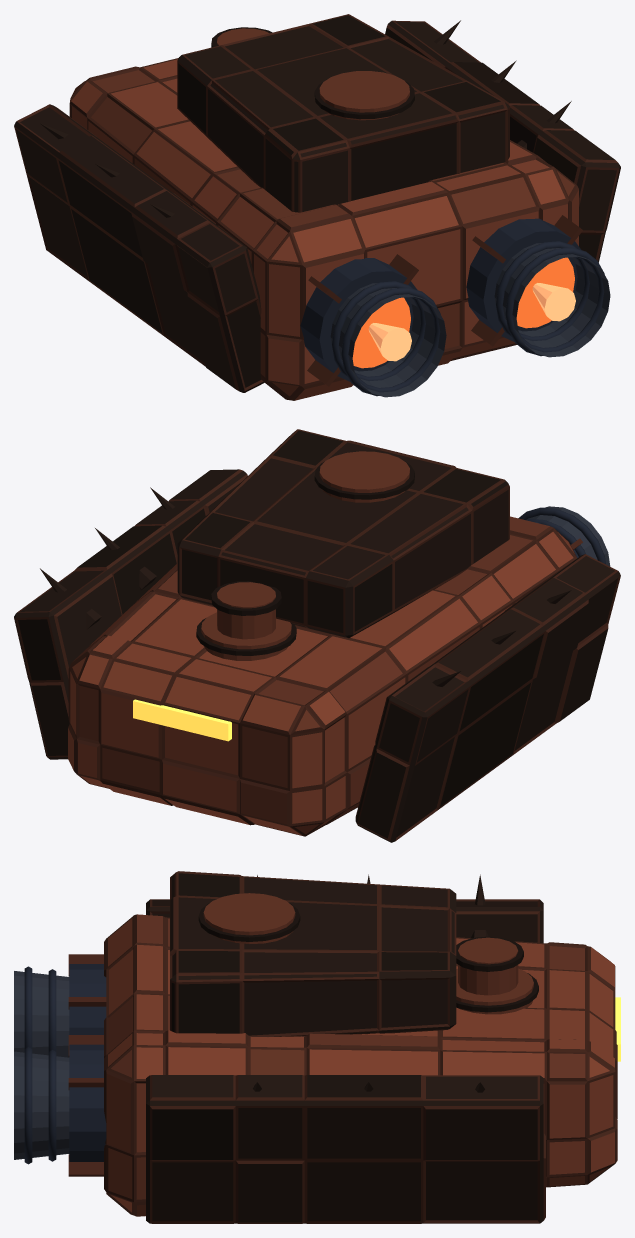
Rendered from gunner.glb.
The picture shows the model from 3 angles, top to bottom: view 1: azimuth 30°, elevation 25°; view 2: azimuth 150°, elevation 25°; view 3: azimuth 270°, elevation 25°; orthographic projection.
Parts seen in each view (by area): view 1: gunner_mesh; view 2: gunner_mesh, pedestal, pedestal_collar; view 3: gunner_mesh, pedestal, pedestal_collar.
Boxes of the visible parts, <box> form: gunner_mesh: <box>14,14,620,400</box>; gunner_mesh: <box>14,429,620,842</box>; pedestal: <box>217,582,275,639</box>; pedestal_collar: <box>211,581,281,615</box>; gunner_mesh: <box>14,871,620,1223</box>; pedestal: <box>458,937,518,995</box>; pedestal_collar: <box>456,936,523,971</box>.
Bounding box in the file's own units: 6.18 × 3.3 × 7.63.
